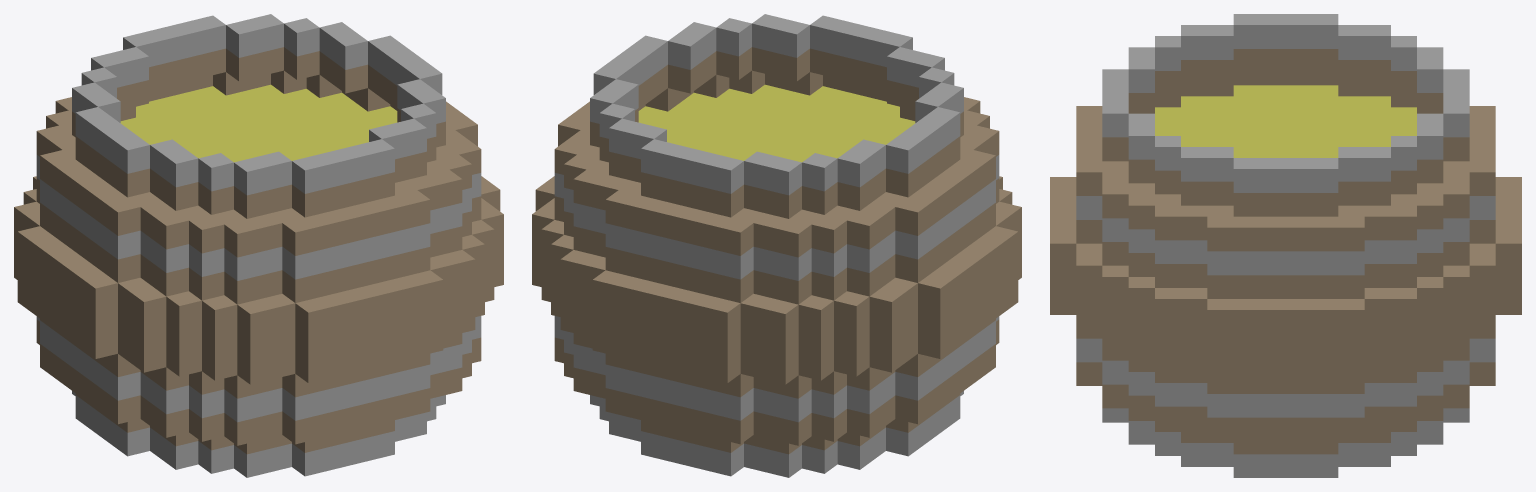
Rendered from barrel_b_v1.fbx.
3 renders of one model, left to right at view 1: azimuth 30°, elevation 25°; view 2: azimuth 150°, elevation 25°; view 3: azimuth 270°, elevation 25°, orthographic.
Parts seen in each view (by area): view 1: barrel_b; view 2: barrel_b; view 3: barrel_b.
Boxes of the visible parts, x1,y1,x2,y2 form: barrel_b: [14, 14, 503, 477]; barrel_b: [532, 14, 1021, 477]; barrel_b: [1050, 14, 1521, 477].
Bounding box in the file's own units: 18 × 13 × 18.
